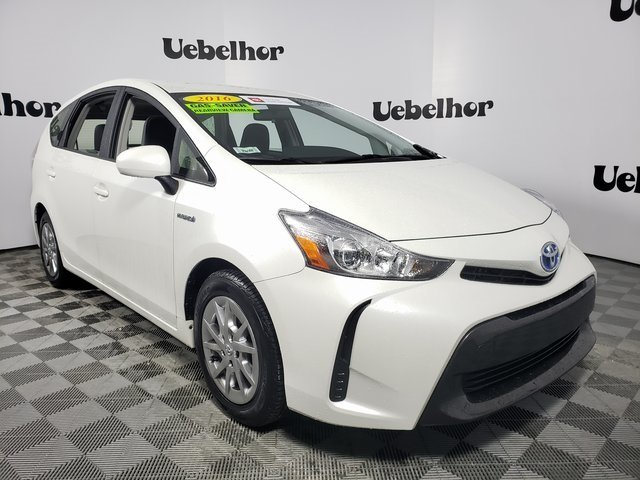Toyota Prius: (27, 74, 601, 437)
